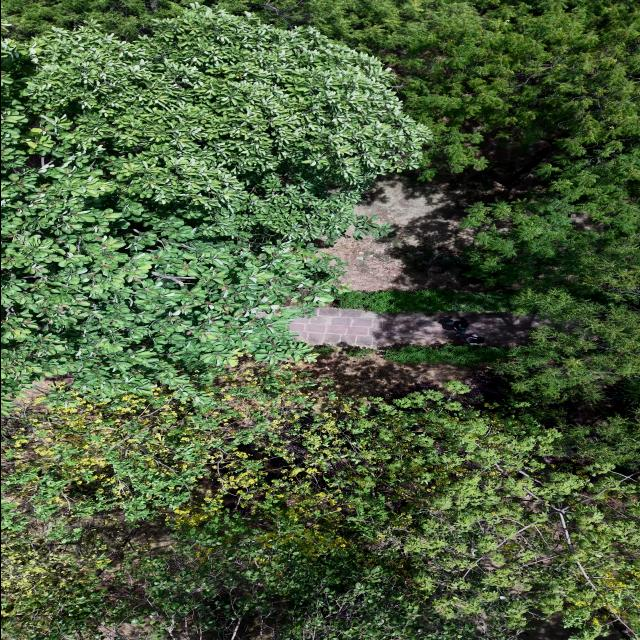DRY_AREA: (326, 141, 552, 290), (324, 143, 551, 291), (324, 143, 550, 291), (324, 150, 540, 291), (323, 156, 534, 291), (323, 169, 530, 291), (322, 175, 473, 291), (321, 175, 470, 291), (297, 349, 504, 401), (300, 349, 505, 401), (290, 308, 547, 349), (291, 308, 545, 349), (290, 308, 546, 348), (297, 350, 489, 397), (300, 350, 485, 397), (375, 312, 548, 348), (290, 308, 380, 347), (14, 375, 73, 412), (14, 376, 62, 411), (520, 613, 577, 639), (520, 614, 575, 639), (98, 616, 153, 639), (98, 618, 154, 639), (98, 620, 153, 639)
VEGETATION_TREE: (1, 0, 639, 639), (5, 0, 639, 413), (1, 365, 639, 639), (1, 8, 429, 399), (308, 0, 639, 465), (24, 8, 431, 241), (341, 149, 639, 467), (204, 0, 639, 172), (306, 0, 639, 172), (464, 150, 639, 404), (1, 0, 193, 40), (1, 0, 191, 40), (337, 289, 509, 313), (345, 343, 508, 366), (383, 344, 507, 365)
